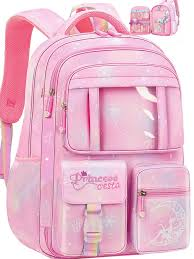bag: (2, 7, 190, 259)
